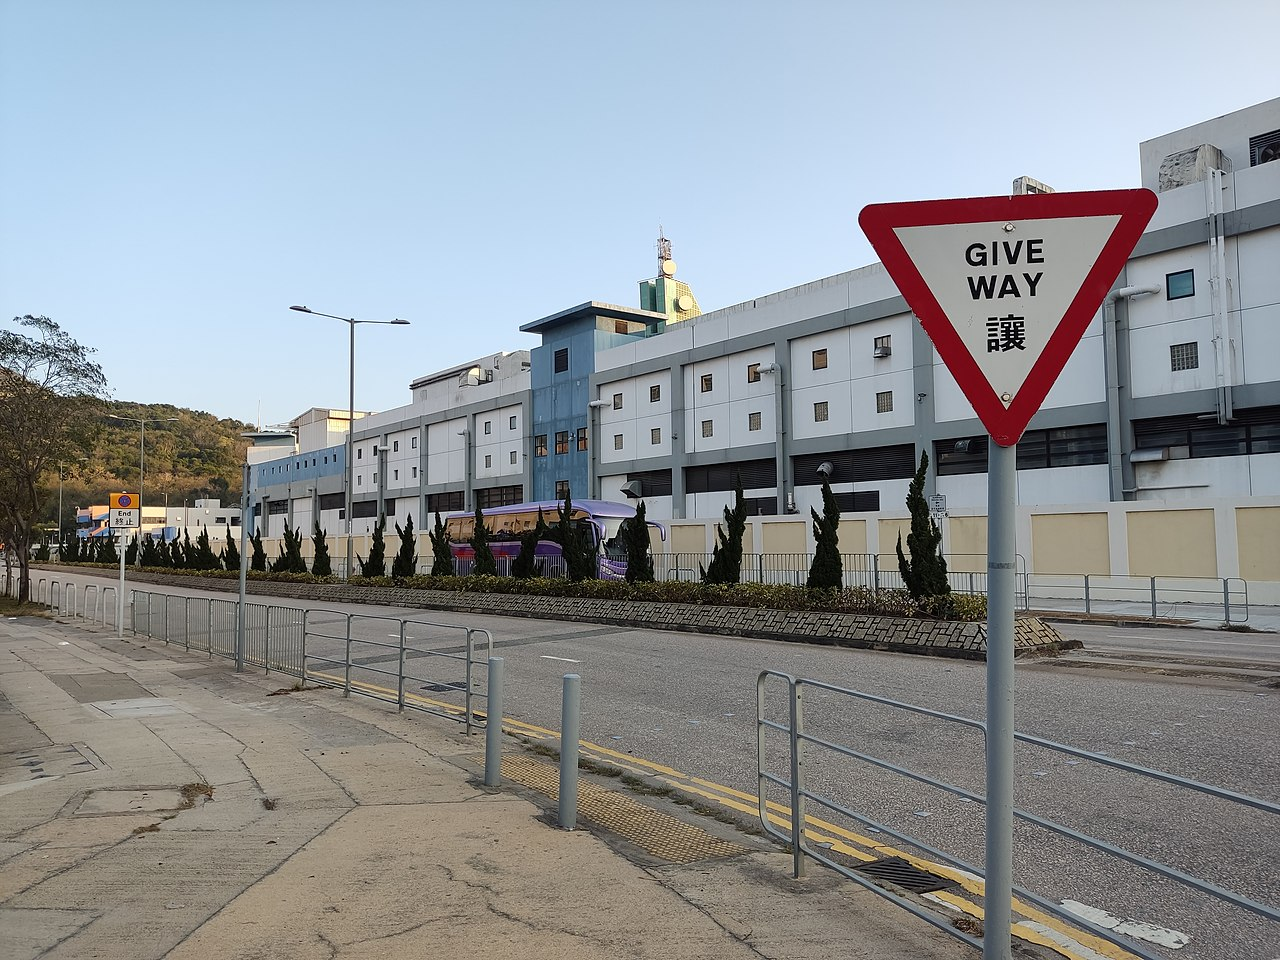Give Way: (854, 179, 1164, 457)
